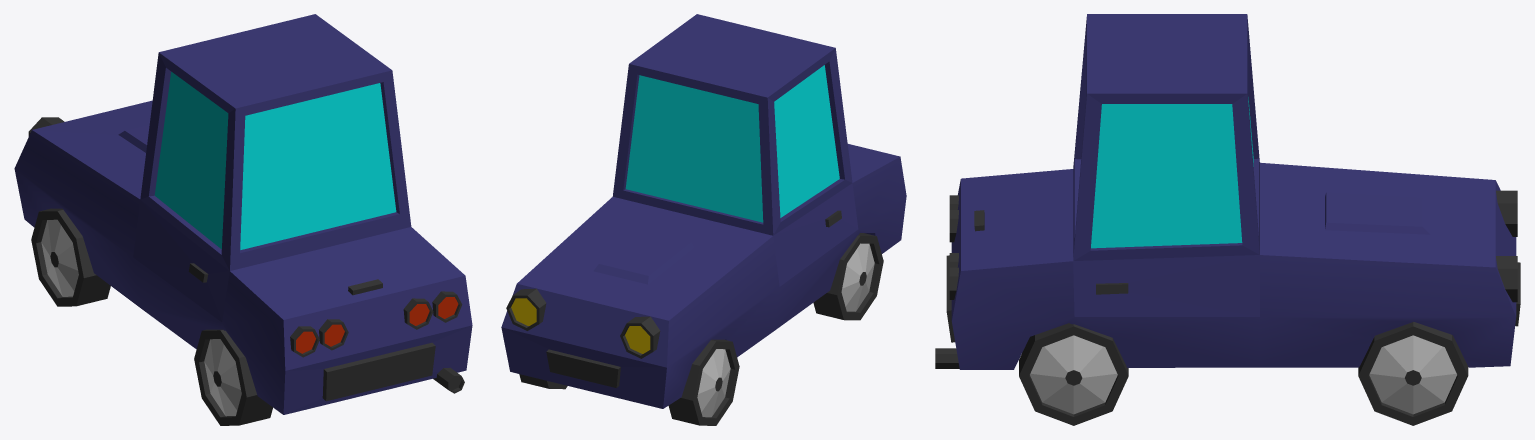
The model's file is Car1.fbx.
3 views of the same model, side by side, from view 1: azimuth 30°, elevation 25°; view 2: azimuth 150°, elevation 25°; view 3: azimuth 270°, elevation 25° (orthographic). The views are drawn at different scales.
Visible parts, largest first — view 1: pCylinder20; view 2: pCylinder20; view 3: pCylinder20.
Part boxes in pixels (x1,y1,x2,y2): pCylinder20: [14, 14, 472, 425]; pCylinder20: [501, 14, 906, 425]; pCylinder20: [935, 14, 1520, 425].
Bounding box in the file's own units: 0.00706 × 0.00997 × 0.0165.
